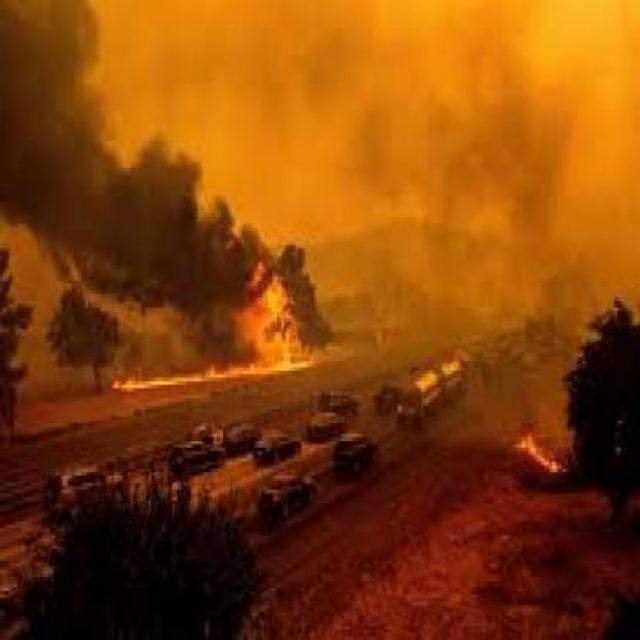Fire: (101, 257, 318, 407)
Smoke: (257, 0, 639, 239), (0, 0, 225, 252)
